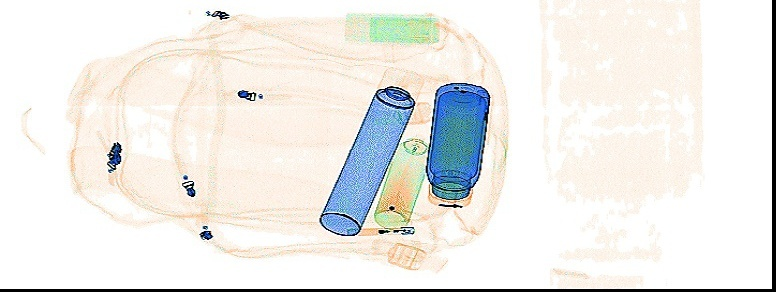lighter: (344, 224, 413, 236)
pressure: (317, 64, 424, 235), (372, 132, 434, 229)
